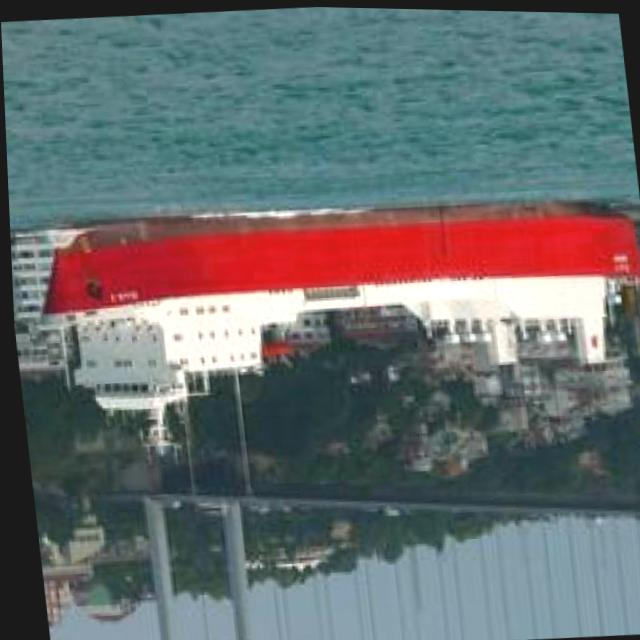ship2: (39, 198, 640, 463)
